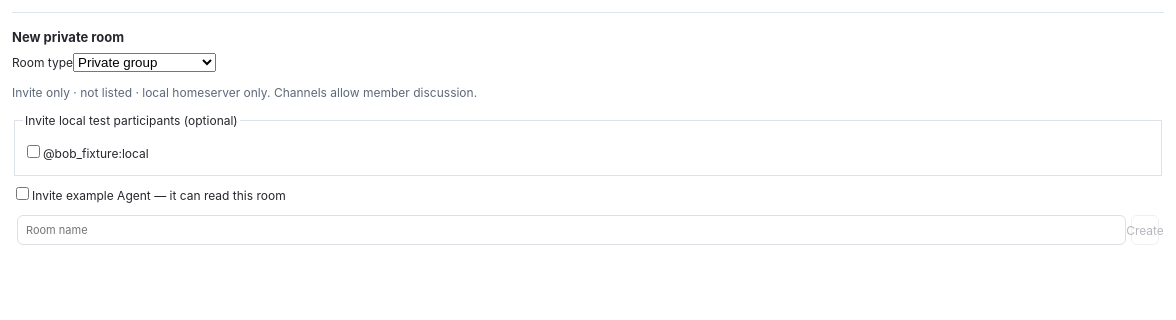
Scenario: locks unknown results and retries identical name, options and operation
In the field named "New local room name": (572,230) [17,215,1126,245], type "Keep request"
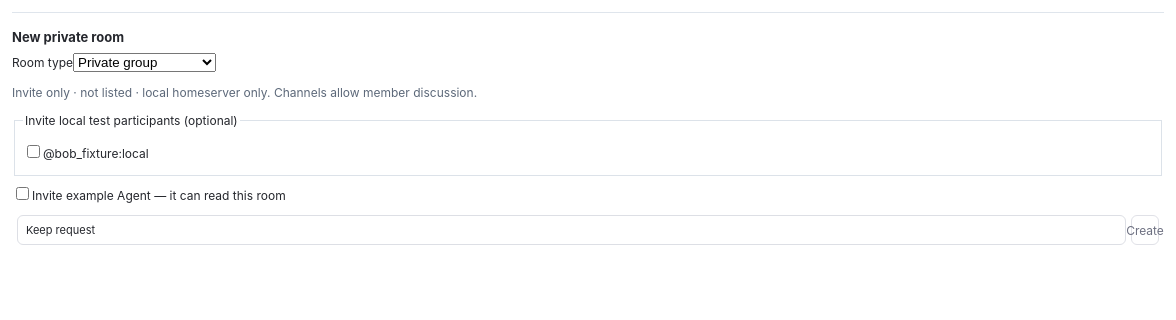
Click the button with aria-label "Create local room": (1145,230) [1131,215,1159,245]
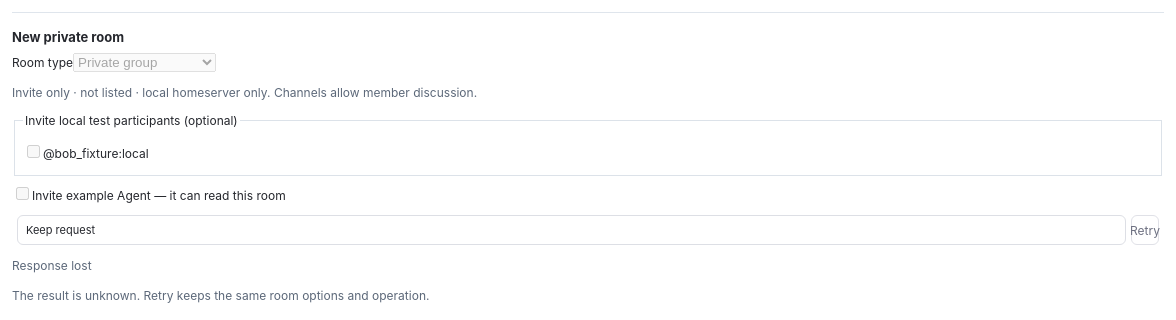
Now the message "Response lost" is shown, box [12,258,92,273]
Now the dropdown labelled "Room type" is disabled, box [73,53,216,72]
Now the checkbox labelled "Invite example Agent — it can read this room" is disabled, box [16,187,29,200]
Click the button with aria-label "Create local room": (1145,230) [1131,215,1159,245]
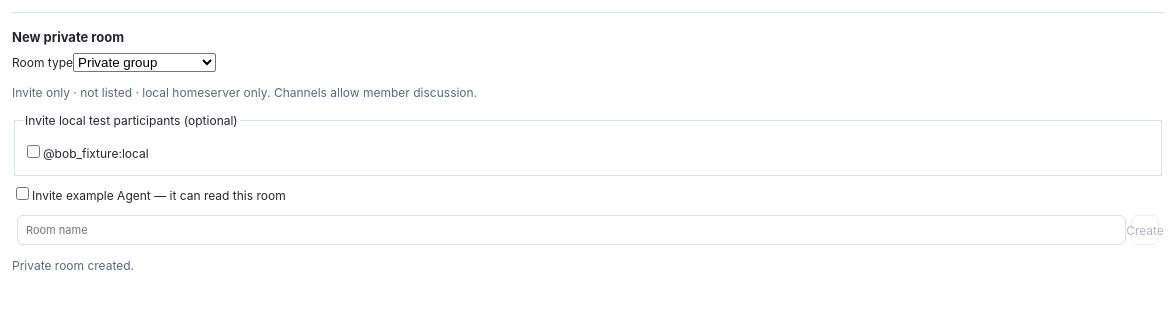
Now the text "Private room created." is shown, box [12,258,134,273]
